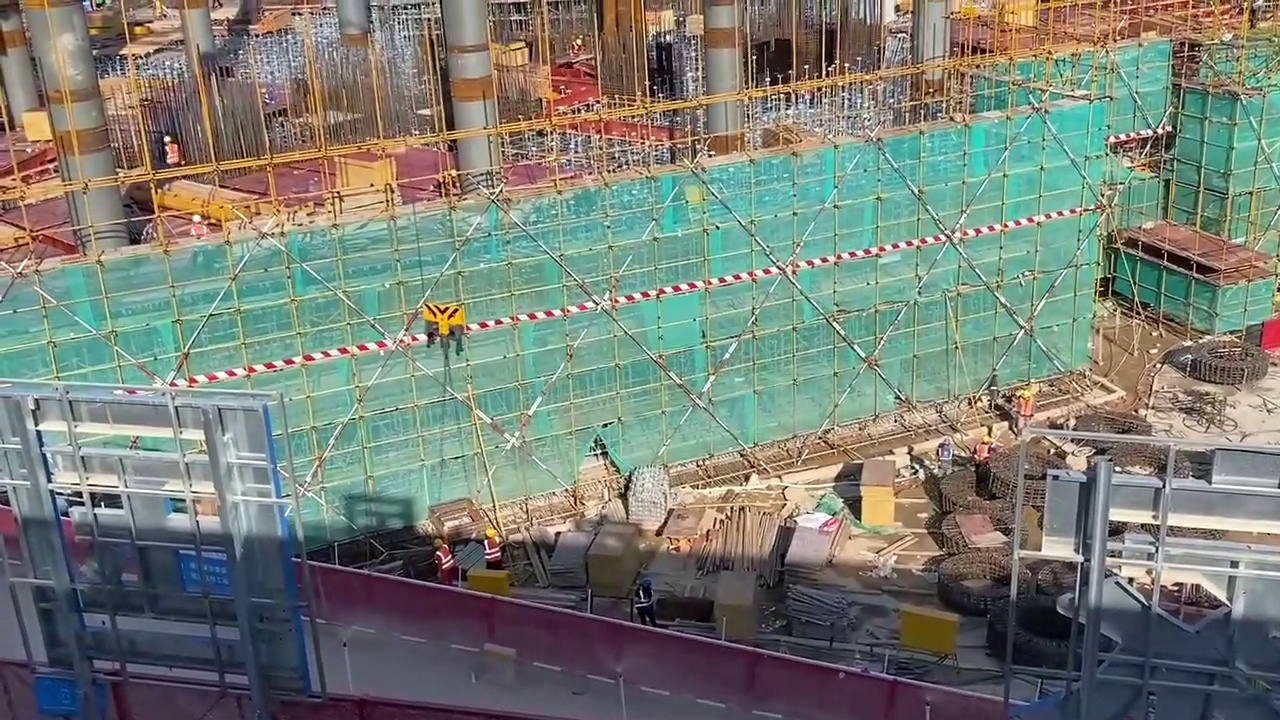board: (862, 457, 898, 528)
fence: (2, 659, 608, 720)
hook: (417, 302, 465, 338)
person: (430, 538, 457, 585), (480, 526, 503, 570), (1012, 386, 1034, 430), (636, 581, 655, 627), (972, 434, 991, 468), (935, 438, 952, 467)
vest: (434, 546, 453, 572), (484, 538, 503, 562)
wood: (708, 506, 778, 579)
